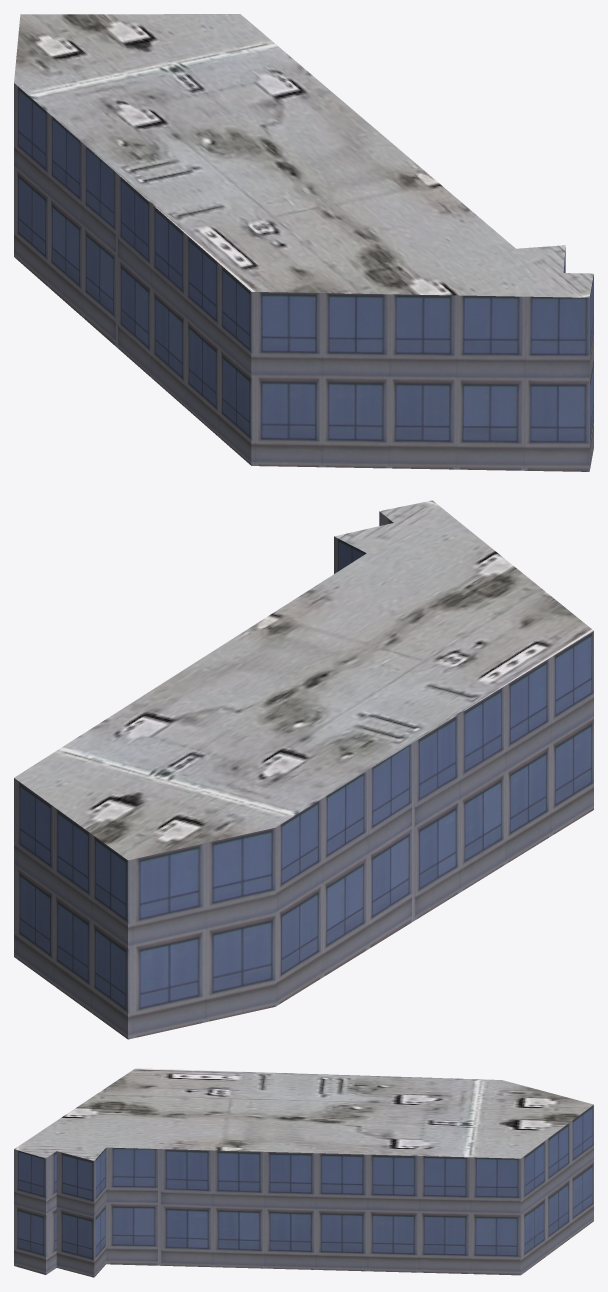
The model's file is RelTex_.fbx.
3 renders of one model, top to bottom at view 1: azimuth 30°, elevation 25°; view 2: azimuth 150°, elevation 25°; view 3: azimuth 270°, elevation 25°, orthographic. The views are drawn at different scales.
Parts seen in each view (by area): view 1: CityEngineMaterial_1_m, CityEngineMaterial_m; view 2: CityEngineMaterial_1_m, CityEngineMaterial_m; view 3: CityEngineMaterial_1_m, CityEngineMaterial_m.
Part boxes in pixels (bbox=[...]): CityEngineMaterial_1_m: bbox=[14, 83, 593, 471]; CityEngineMaterial_m: bbox=[14, 14, 593, 297]; CityEngineMaterial_1_m: bbox=[14, 511, 593, 1039]; CityEngineMaterial_m: bbox=[14, 500, 593, 860]; CityEngineMaterial_1_m: bbox=[14, 1105, 593, 1277]; CityEngineMaterial_m: bbox=[14, 1068, 593, 1160].
Bounding box in the file's own units: 15.33 × 9 × 40.53.
Materials: 2 (2 with a texture image).
